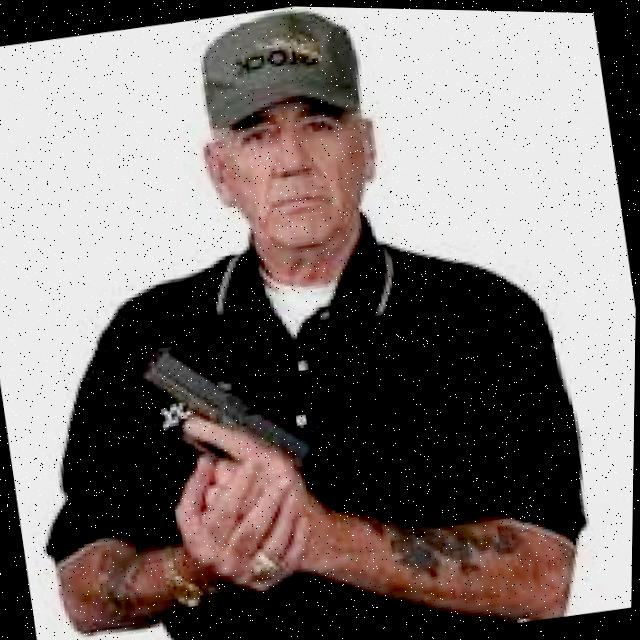pistol: (141, 320, 313, 488)
